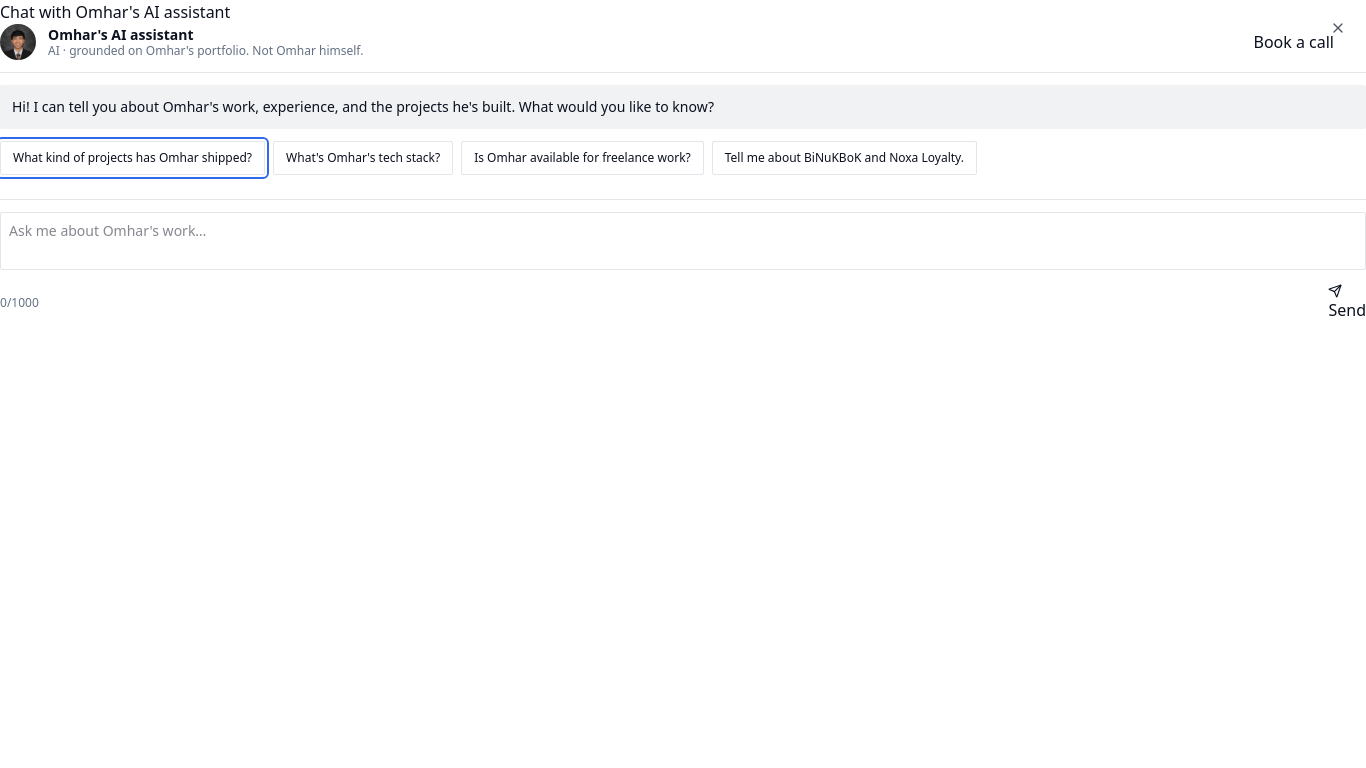
Test case: ChatPanel › shows a graceful, Calendly-pointing message when the request fails
The width and height of the screenshot is (1366, 768).
Type "hello" into the text box with placeholder "Ask me about Omhar's work…" at (683, 241), box [0,212,1365,270]
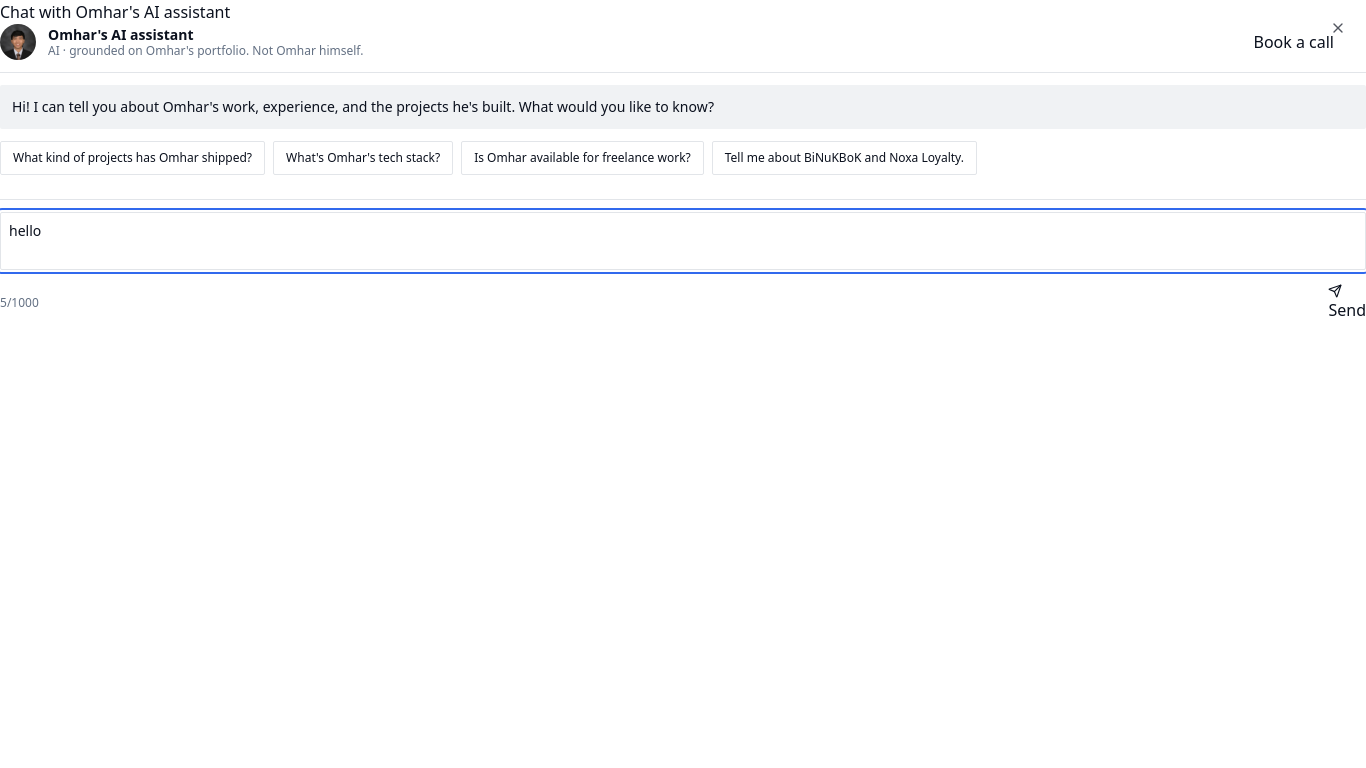
Press Enter
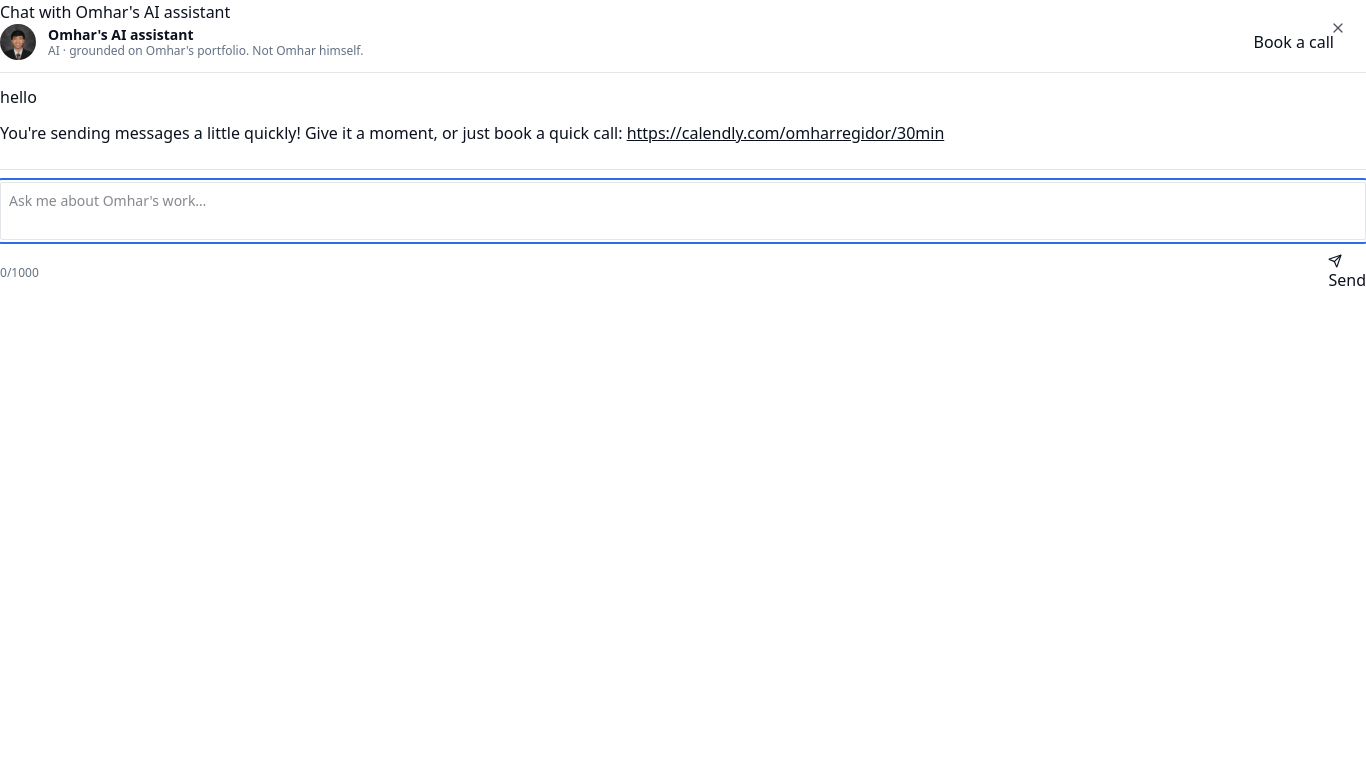
Expected: the text "sending messages a little quickly" is shown, [0,122,627,144]
